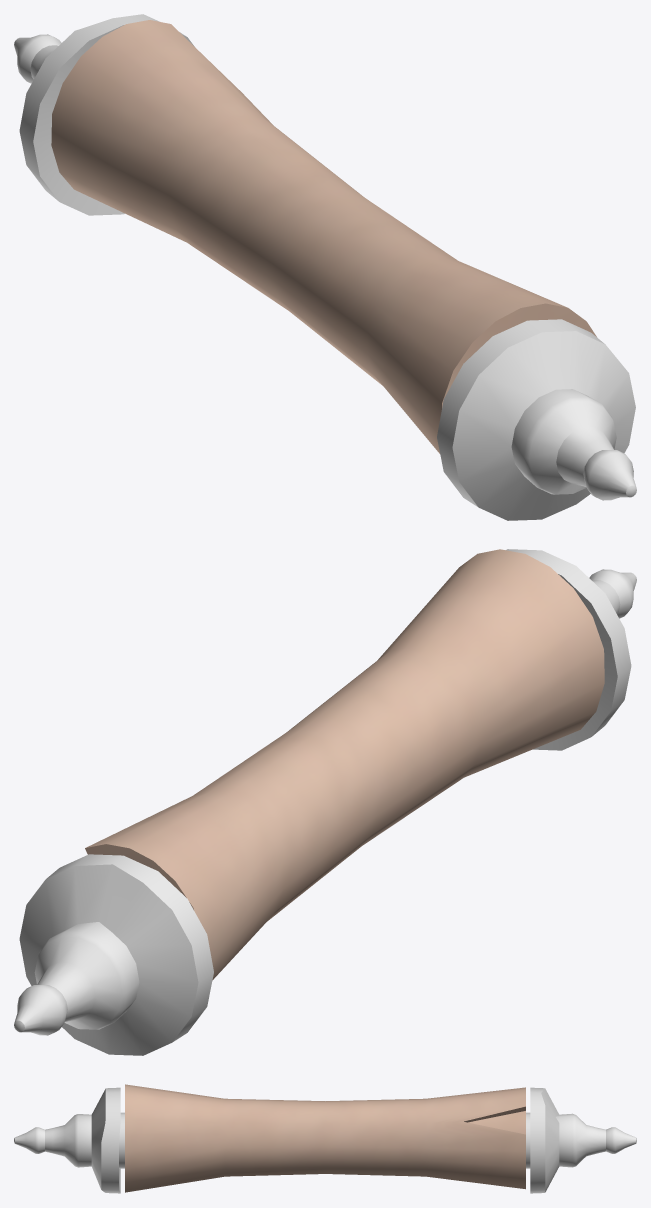
The model's file is SM_Scroll_02.fbx.
3 views of the same model, one above another, from view 1: azimuth 30°, elevation 25°; view 2: azimuth 150°, elevation 25°; view 3: azimuth 270°, elevation 25° (orthographic). The views are drawn at different scales.
Parts seen in each view (by area): view 1: SM_Scroll_02; view 2: SM_Scroll_02; view 3: SM_Scroll_02.
Part boxes in pixels (bbox=[...]): SM_Scroll_02: bbox=[14, 14, 636, 520]; SM_Scroll_02: bbox=[14, 549, 636, 1055]; SM_Scroll_02: bbox=[14, 1084, 636, 1193].
Bounding box in the file's own units: 5.26 × 5.54 × 30.91.
